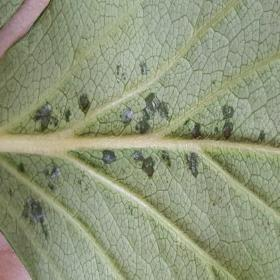Angular Leafspot: (3, 55, 274, 244)
